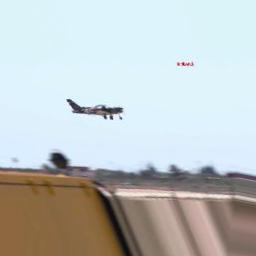Airplane: (66, 97, 125, 122)
